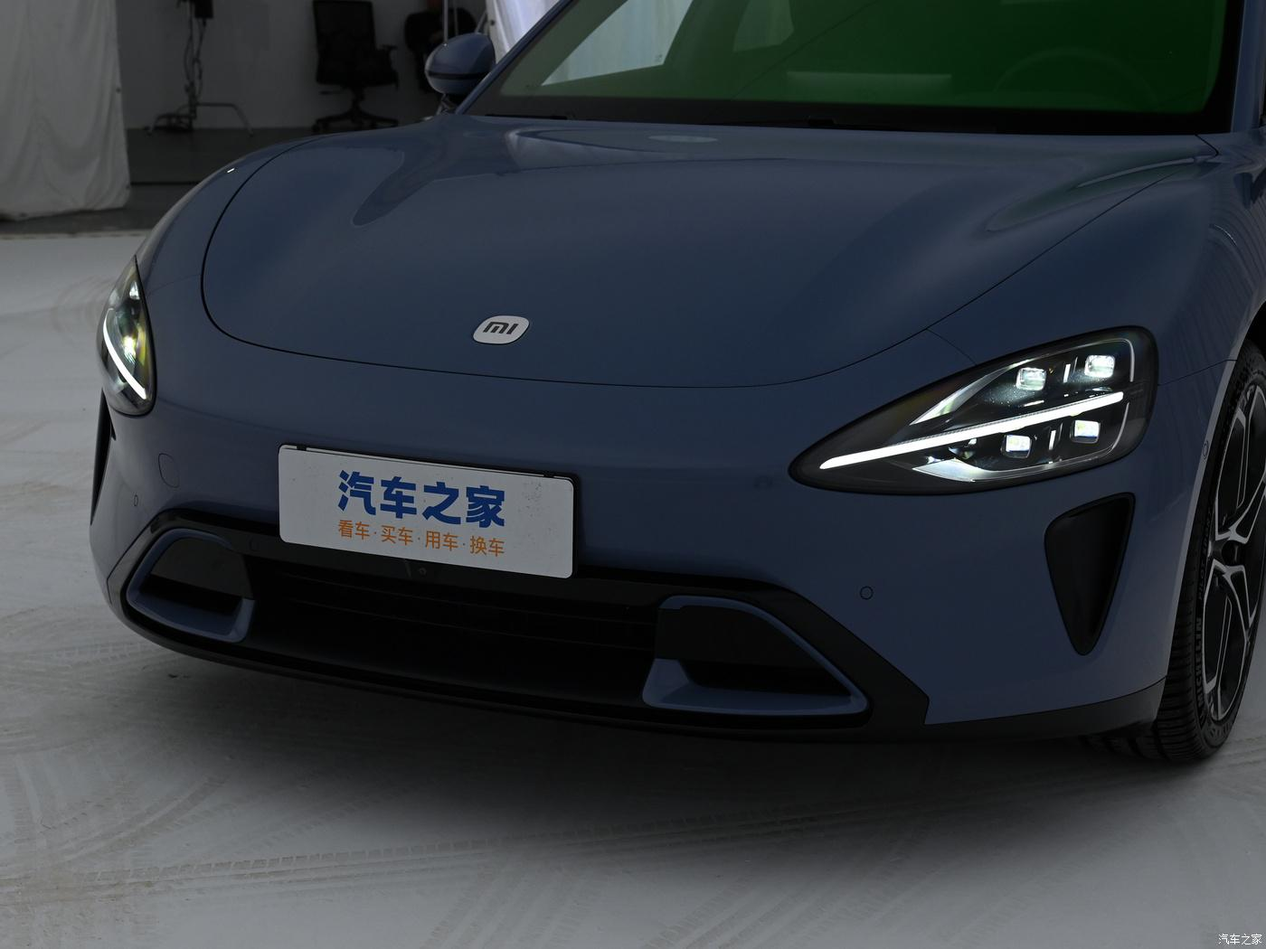XIAOMI: (473, 315, 529, 343)
